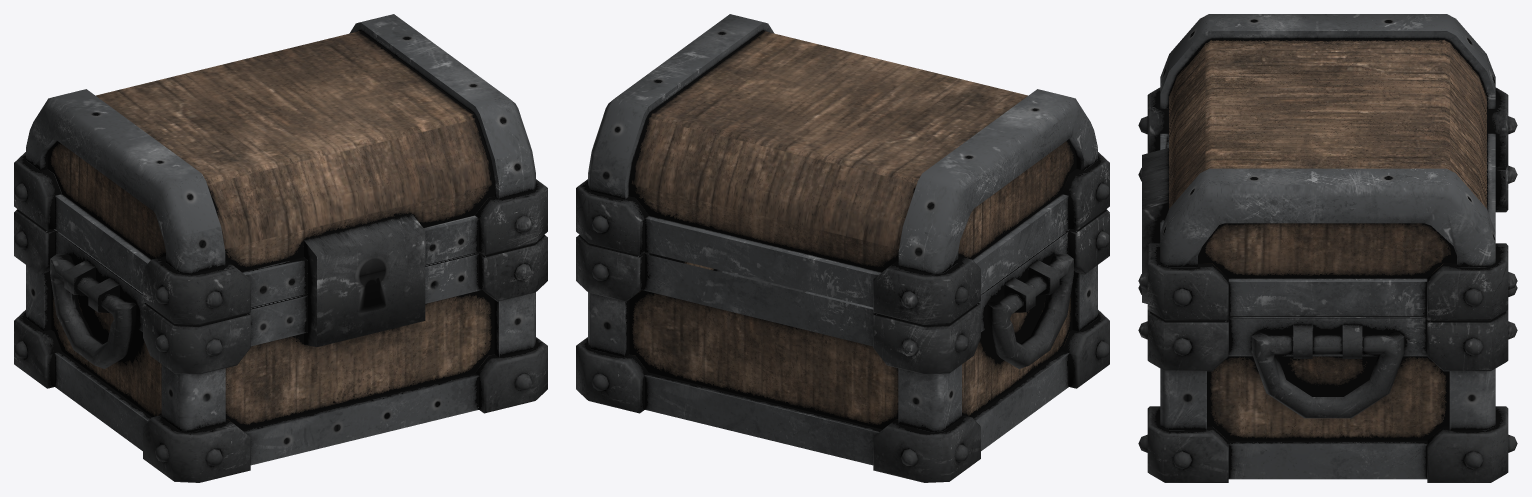
The model's file is chest.fbx.fbx.
3 views of the same model, side by side, from view 1: azimuth 30°, elevation 25°; view 2: azimuth 150°, elevation 25°; view 3: azimuth 270°, elevation 25° (orthographic). The views are drawn at different scales.
Visible parts, largest first — view 1: Cuerpo_superior, Cuerpo_inferiori, Cerradura, Agarradera; view 2: Cuerpo_superior, Cuerpo_inferiori, Agarradera; view 3: Cuerpo_superior, Cuerpo_inferiori, Agarradera, Cerradura.
Part boxes in pixels (x1,y1,x2,y2): Cuerpo_superior: (14, 14, 547, 324); Cuerpo_inferiori: (14, 209, 547, 482); Cerradura: (304, 214, 425, 346); Agarradera: (50, 254, 136, 368); Cuerpo_superior: (576, 14, 1109, 324); Cuerpo_inferiori: (576, 209, 1109, 482); Agarradera: (987, 254, 1073, 368); Cuerpo_superior: (1138, 14, 1517, 320); Cuerpo_inferiori: (1138, 165, 1517, 482); Agarradera: (1251, 324, 1404, 418); Cerradura: (1142, 148, 1168, 303).
Bounding box in the file's own units: 234 × 157 × 187.
8 materials, 8 textured.
